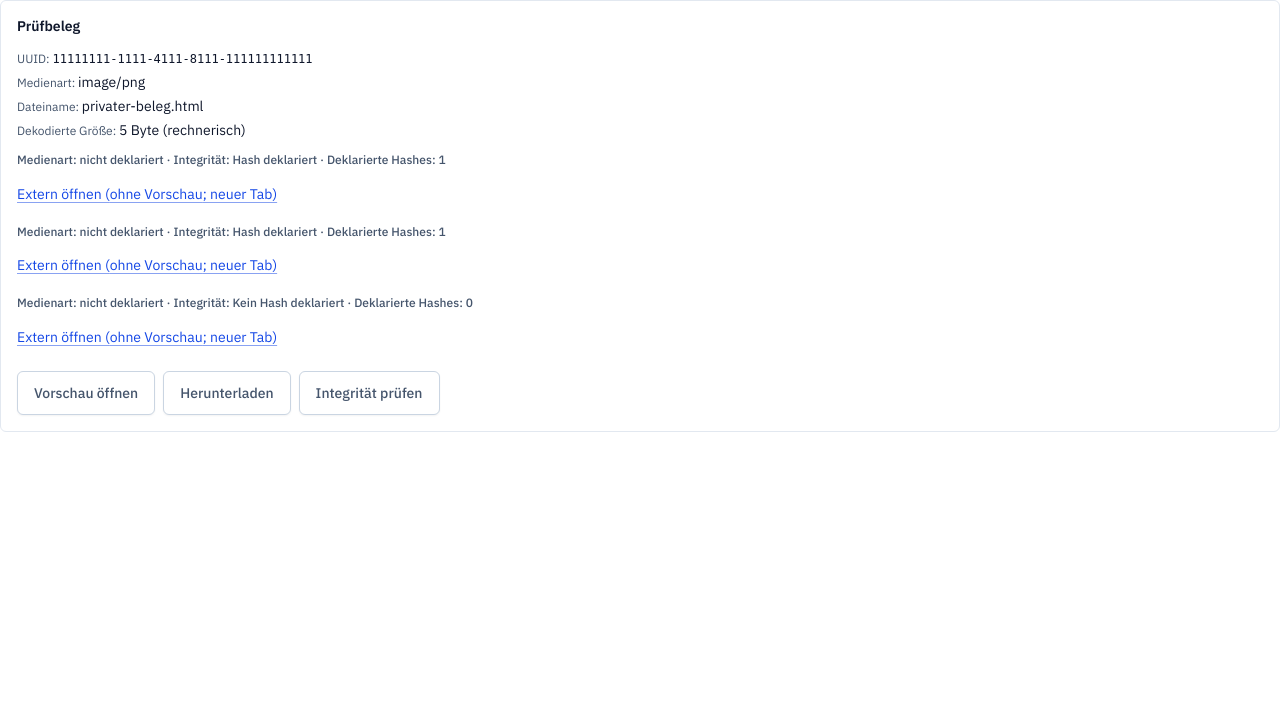
Test case: zeigt alle drei echten Hash-Ergebnisse nur nach Klick ohne Werte auszugeben
Expected: the text "Integrität: Kein Hash deklariert" is shown, x1=17 y1=295 x2=473 y2=310
Click the button "Integrität prüfen" at (369, 393), box x1=299 y1=371 x2=440 y2=415
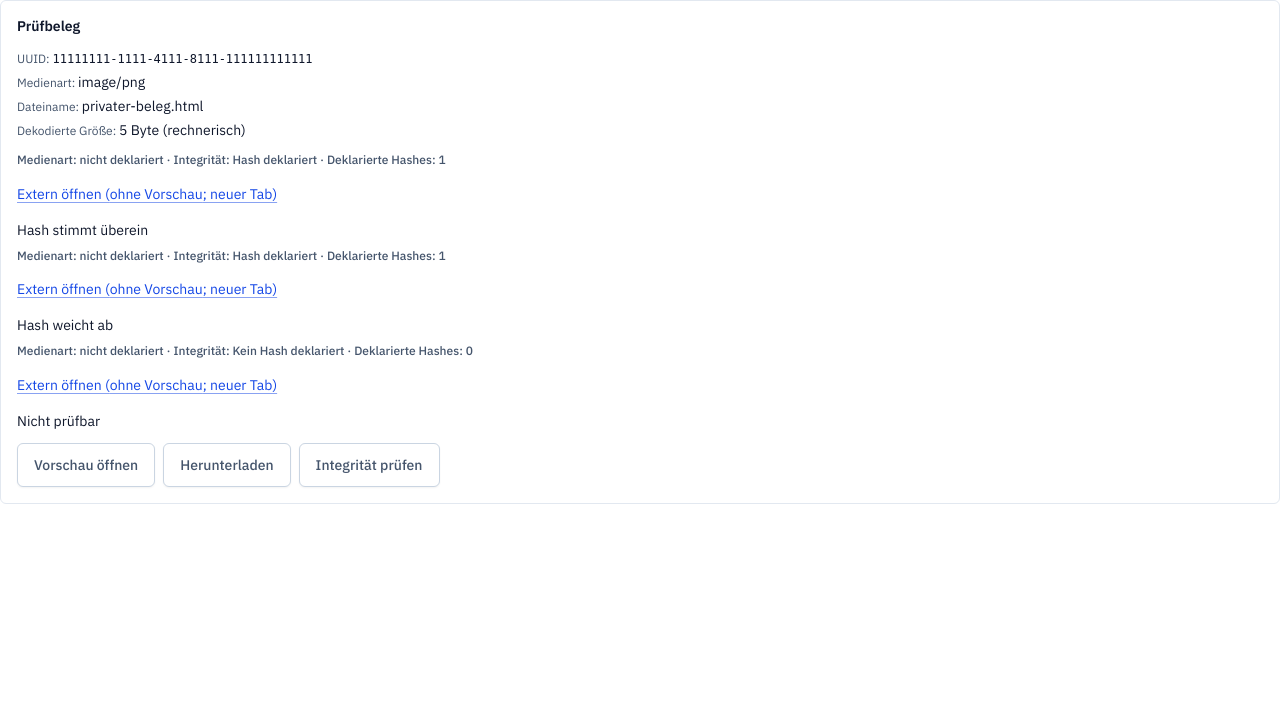
Result: the text "Hash stimmt überein" is shown at x1=17 y1=221 x2=148 y2=239
Result: the text "Hash weicht ab" is shown at x1=17 y1=316 x2=113 y2=334
Result: the text "Nicht prüfbar" is shown at x1=17 y1=412 x2=100 y2=430
